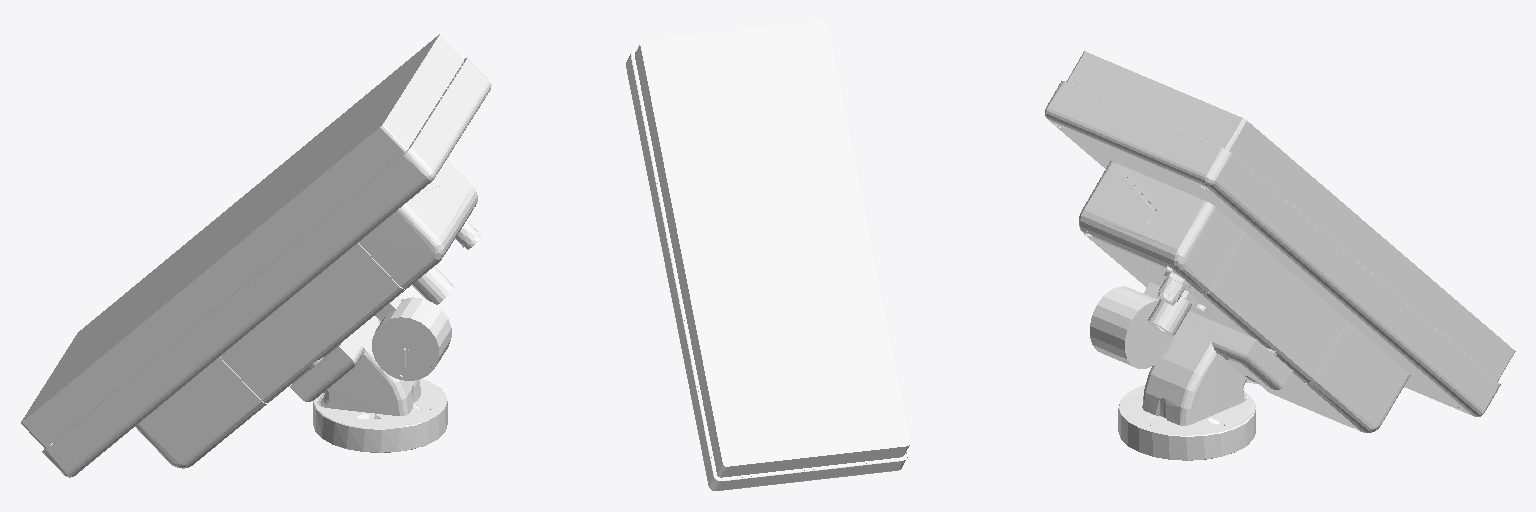
URDF robot description (tcp):
<?xml version="1.0" ?>
<robot name="tcp">
  <link name="baseLink">
    <contact>
      <lateral_friction value="1.0"/>
      <rolling_friction value="0.0"/>
      <contact_cfm value="0.0"/>
      <contact_erp value="1.0"/>
    </contact>
    <inertial>
      <origin rpy="0 0 0" xyz="0 0 0"/>
       <mass value="0"/>
       <inertia ixx="1" ixy="0" ixz="0" iyy="1" iyz="0" izz="1"/>
    </inertial>
    <visual>
      <origin rpy="0 0 0" xyz="0 0 0"/>
      <geometry>
		    <mesh filename="tcp.obj" scale="1 1 1"/>
      </geometry>
      <material name="white">
        <color rgba="1 1 1 1"/>
      </material>
    </visual>
    <collision concave="yes">
      <origin rpy="0 0 0" xyz="0 0 0"/>
      <geometry>
	      <mesh filename="tcp.obj" scale="1 1 1"/>
      </geometry>
    </collision>
  </link>
</robot>

--- What the picture shows (computed from the rendered views, not written in the file) ---
3 views of the same robot in one strip: view 1: azimuth 30°, elevation 25°; view 2: azimuth 150°, elevation 25°; view 3: azimuth 270°, elevation 25° (orthographic).
Robot: tcp — 1 links, 0 joints (none); root link baseLink; default pose: all joints at 0.
Visible links, largest first — view 1: baseLink; view 2: baseLink; view 3: baseLink.
Boxes of the visible links, x1=… form: baseLink: x1=21, y1=34, x2=491, y2=477; baseLink: x1=626, y1=21, x2=909, y2=490; baseLink: x1=1045, y1=51, x2=1515, y2=460.
Size in the robot's own frame: 0.2557 by 0.2557 by 0.2382 metres.
1 mesh visuals loaded from 1 distinct referenced files (1 OBJ).
